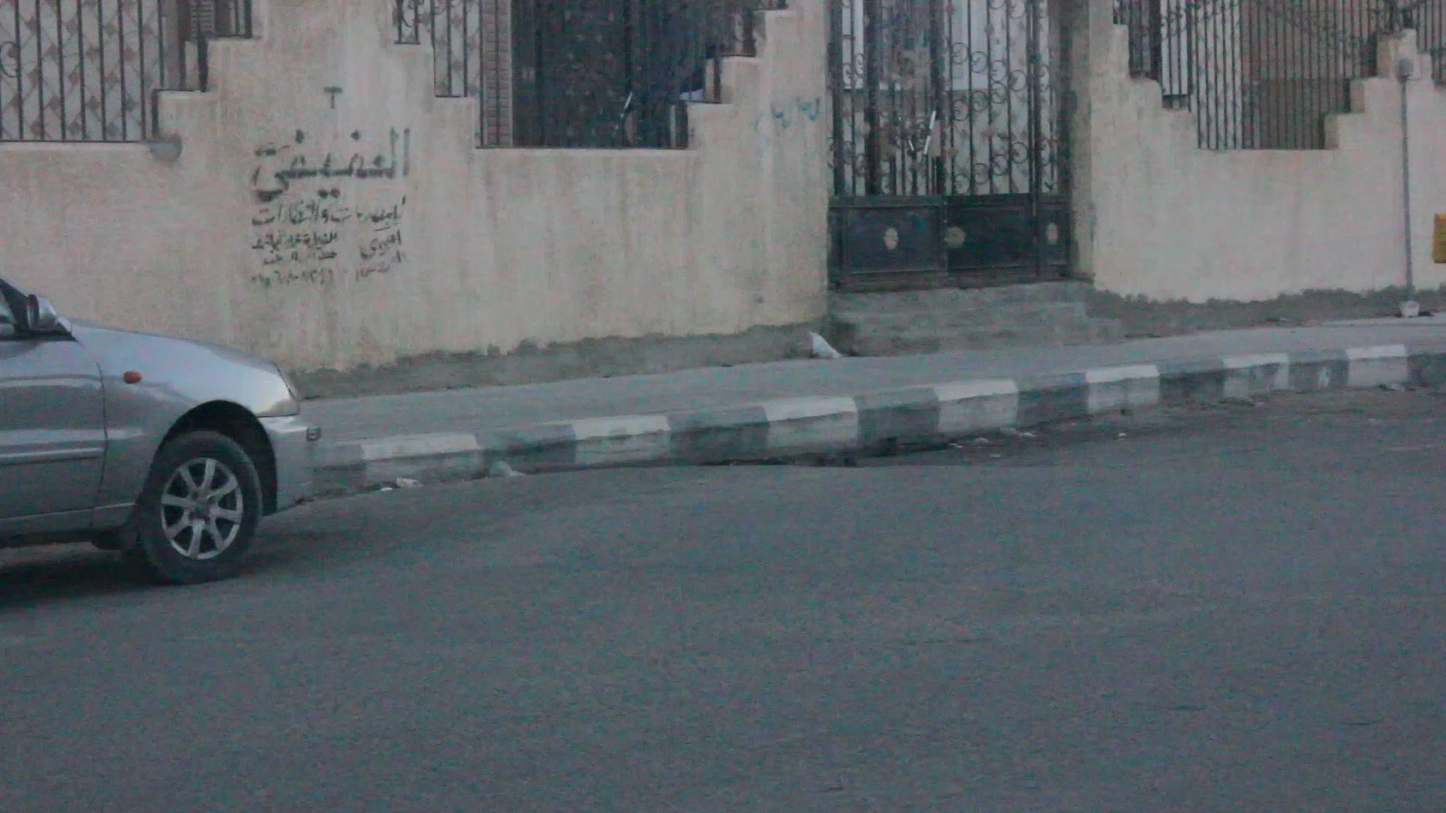Bump: (283, 455, 1438, 600)
